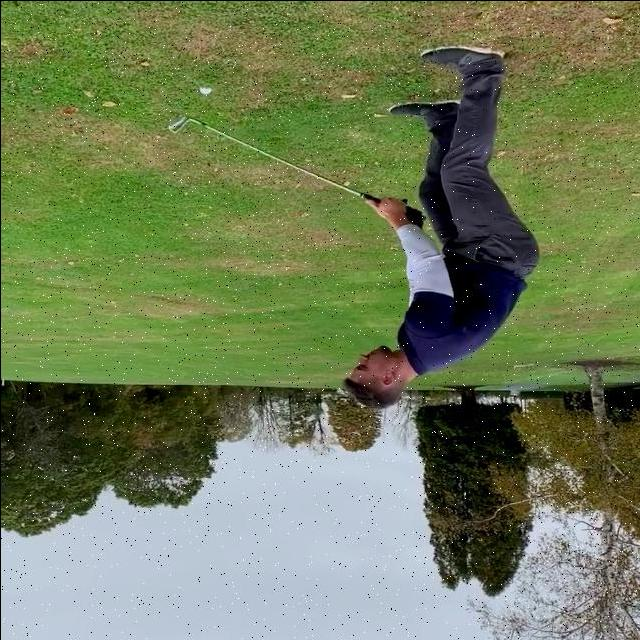golf ball: (194, 81, 216, 97)
golf club-handle: (165, 114, 422, 230)
golf club-head: (170, 115, 188, 134)
